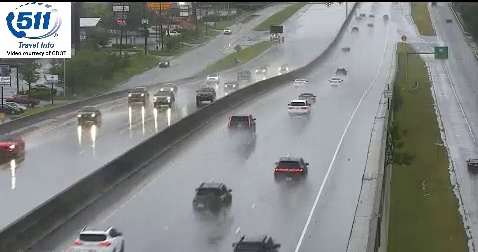car: (75, 226, 124, 252), (194, 183, 232, 213), (274, 158, 308, 182), (228, 115, 255, 133), (288, 100, 309, 116), (297, 93, 316, 104)
